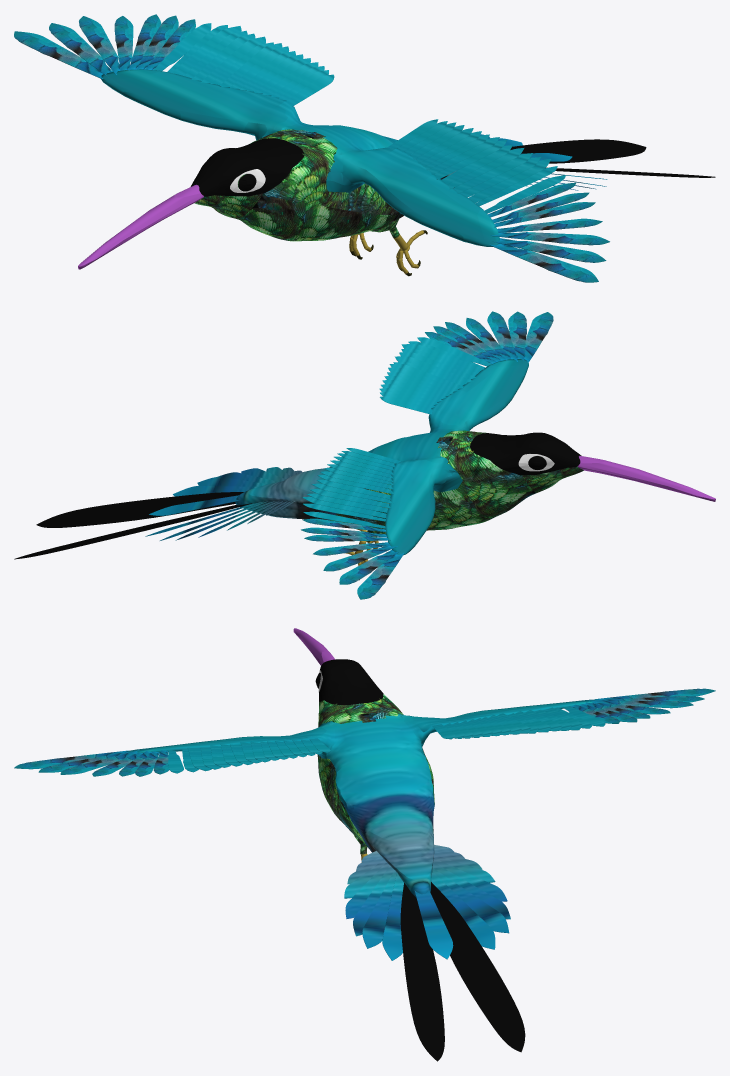
Rendered from birdh.obj.
3 views of the same model, one above another, from view 1: azimuth 30°, elevation 25°; view 2: azimuth 150°, elevation 25°; view 3: azimuth 270°, elevation 25° (orthographic). The views are drawn at different scales.
Parts seen in each view (by area): view 1: Body01, Bodu, Chub, Pero02, Kluv, LFeath01, RFeath01, RFeath02, LFeath02, RFeath03, LFeath03, RFeath04 (+9 smaller); view 2: Body01, Bodu, Chub, Pero01, Kluv, Pero02, RFeath01, LFeath01, RFeath02, LFeath03, LFeath02, RFeath03 (+6 smaller); view 3: Body01, Pero02, Pero01, Bodu, Chub.
Boxes of the visible parts, box(x1,y1,x2,y2) form: Body01: box(101, 23, 607, 246); Bodu: box(194, 129, 403, 241); Chub: box(190, 138, 304, 196); Pero02: box(510, 139, 646, 163); Kluv: box(78, 184, 203, 269); LFeath01: box(490, 243, 598, 282); RFeath01: box(14, 31, 103, 79); RFeath02: box(49, 23, 112, 76); LFeath02: box(492, 238, 606, 262); RFeath03: box(79, 16, 120, 75); LFeath03: box(490, 232, 609, 245); RFeath04: box(114, 16, 133, 70); Body01: box(145, 337, 528, 555); Bodu: box(329, 430, 583, 530); Chub: box(470, 432, 581, 475); Pero01: box(36, 492, 243, 527); Kluv: box(577, 456, 715, 501); Pero02: box(14, 503, 251, 559); RFeath01: box(357, 553, 403, 599); LFeath01: box(524, 312, 553, 362); RFeath02: box(339, 550, 399, 584); LFeath03: box(487, 311, 517, 361); LFeath02: box(508, 311, 526, 360); RFeath03: box(323, 545, 397, 571); Body01: box(126, 699, 605, 960); Pero02: box(430, 882, 525, 1052); Pero01: box(400, 883, 444, 1061); Bodu: box(317, 694, 434, 846); Chub: box(319, 659, 383, 704).
Size of the model in its own units: 1.14 by 0.2948 by 1.11.
9 materials, 3 textured.
